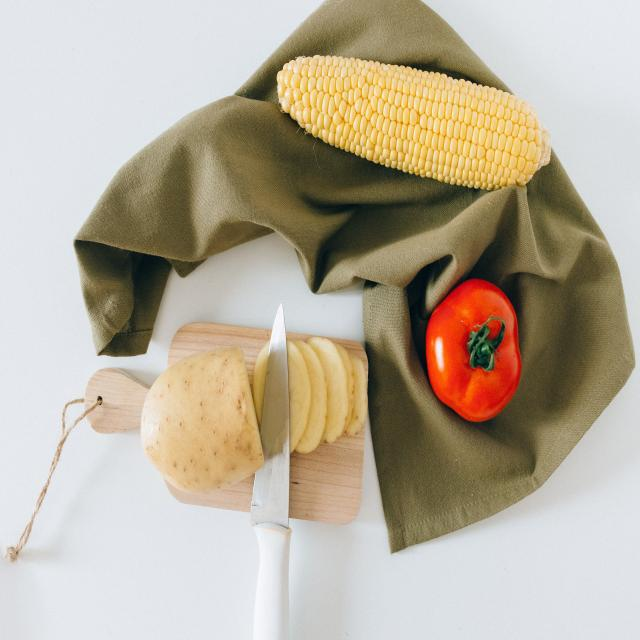Tomato: (419, 272, 530, 427)
